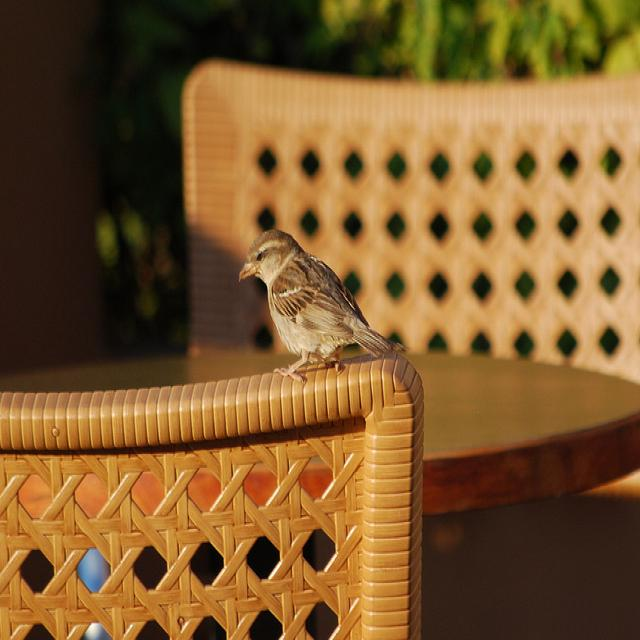chair: (181, 63, 640, 505), (3, 365, 414, 639), (2, 440, 362, 629)
dining table: (2, 347, 640, 519)
